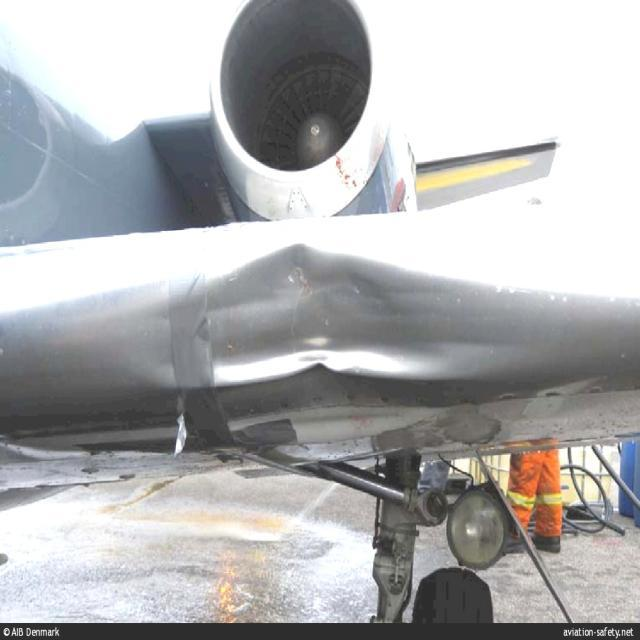dent: (151, 243, 529, 392)
